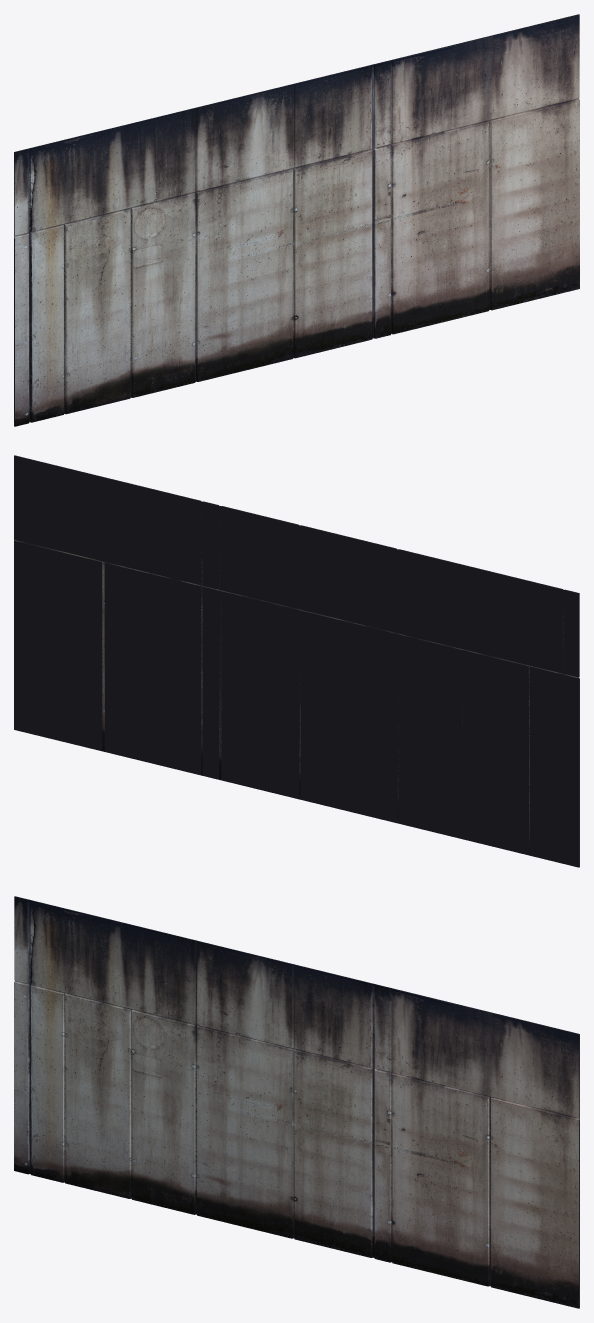
Rendered from Wall 1.fbx.
3 renders of one model, top to bottom at view 1: azimuth 30°, elevation 25°; view 2: azimuth 150°, elevation 25°; view 3: azimuth 330°, elevation 25°, orthographic.
Parts seen in each view (by area): view 1: Wall; view 2: Wall; view 3: Wall.
Boxes of the visible parts, bbox=[...] form: Wall: bbox=[14, 14, 579, 426]; Wall: bbox=[14, 455, 579, 867]; Wall: bbox=[14, 896, 579, 1308].
Bounding box in the file's own units: 1188 × 551 × 3.15.
Materials: 1 (1 with a texture image).
